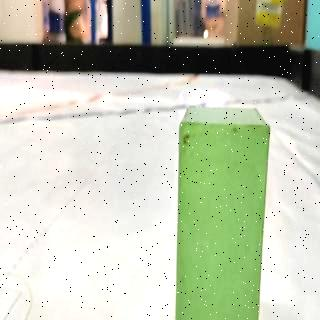greenbox: (175, 103, 272, 320)
